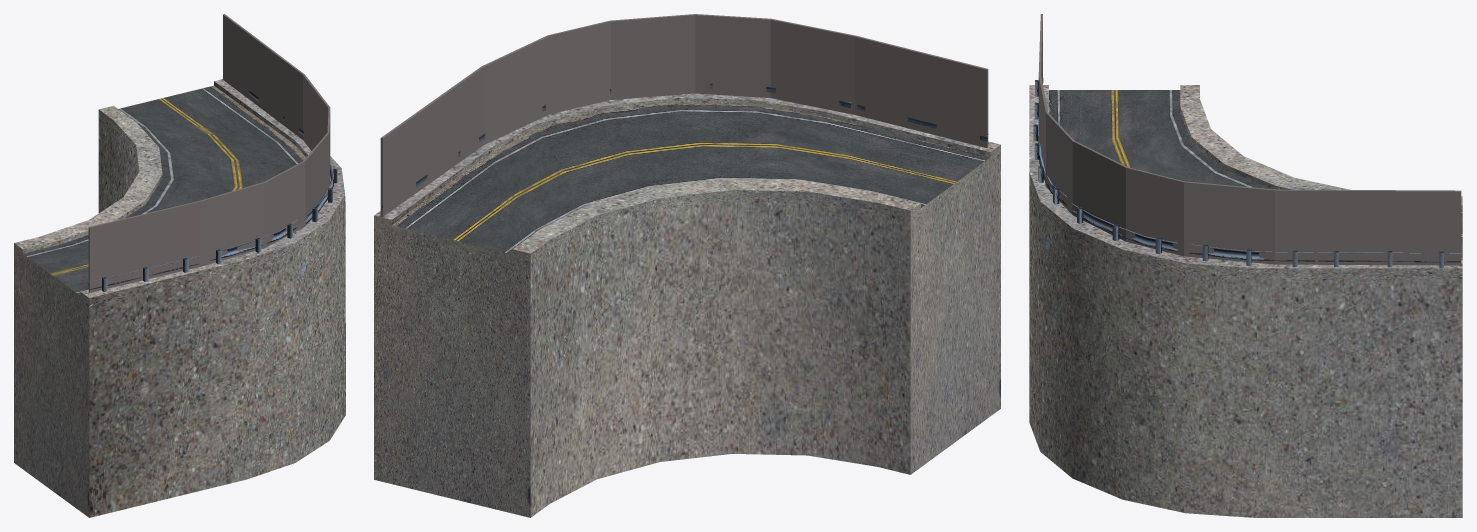
File: leftTurn-Big.fbx
The picture shows the model from 3 angles, left to right: view 1: azimuth 30°, elevation 25°; view 2: azimuth 150°, elevation 25°; view 3: azimuth 270°, elevation 25°; orthographic projection. The views are drawn at different scales.
Parts seen in each view (by area): view 1: Plane.021, Plane.043; view 2: Plane.021, Plane.043; view 3: Plane.021, Plane.043.
Part boxes in pixels (x1=…): Plane.021: x1=14, y1=79, x2=345, y2=517; Plane.043: x1=88, y1=14, x2=330, y2=292; Plane.021: x1=374, y1=83, x2=1000, y2=517; Plane.043: x1=380, y1=14, x2=988, y2=216; Plane.021: x1=1029, y1=78, x2=1462, y2=517; Plane.043: x1=1038, y1=14, x2=1461, y2=265.
Bounding box in the file's own units: 3300 × 2719 × 3300.
